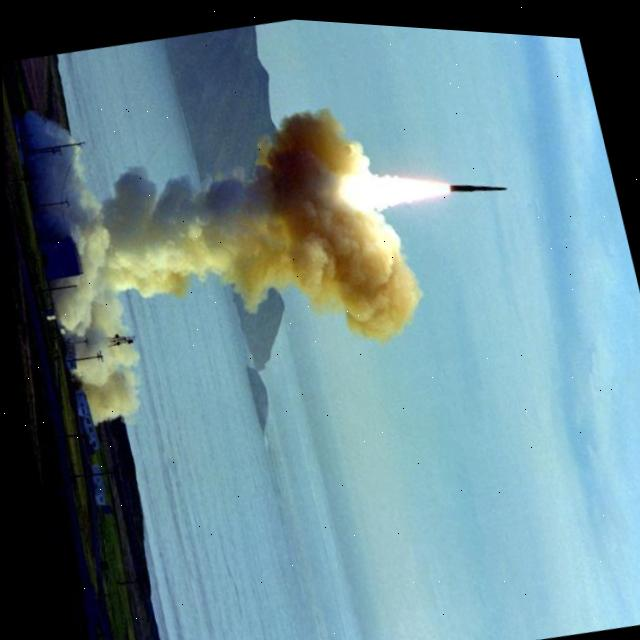missile: (443, 160, 511, 205)
